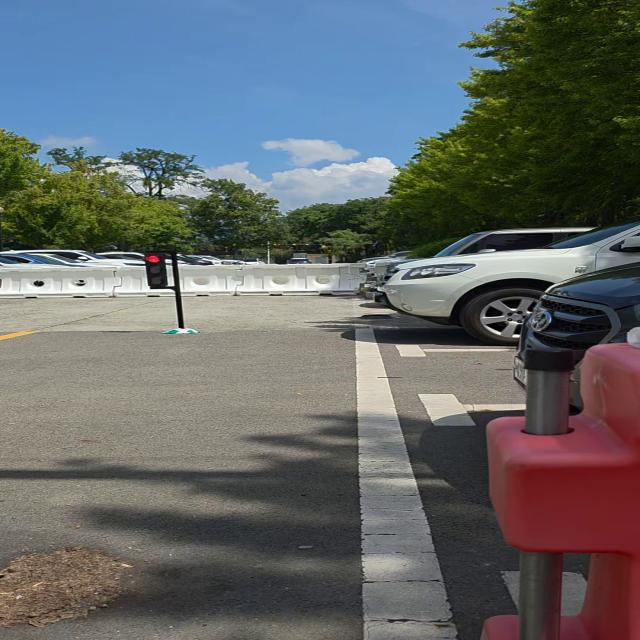red: (142, 251, 175, 287)
